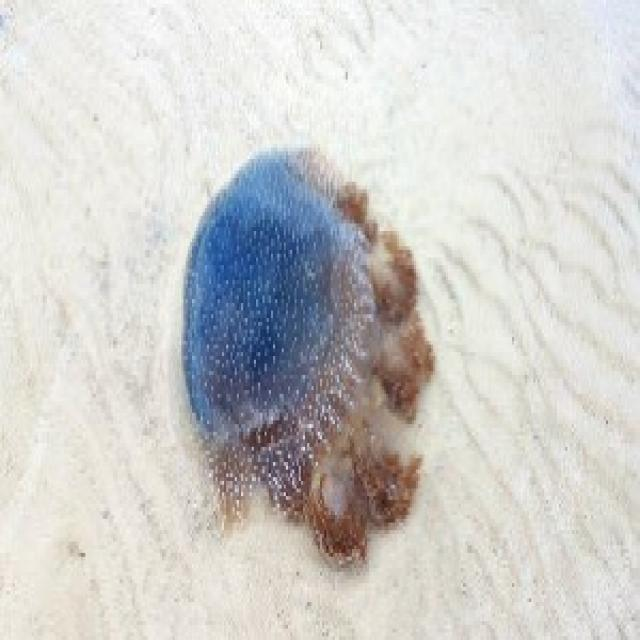Jellyfish: (168, 143, 437, 582)
